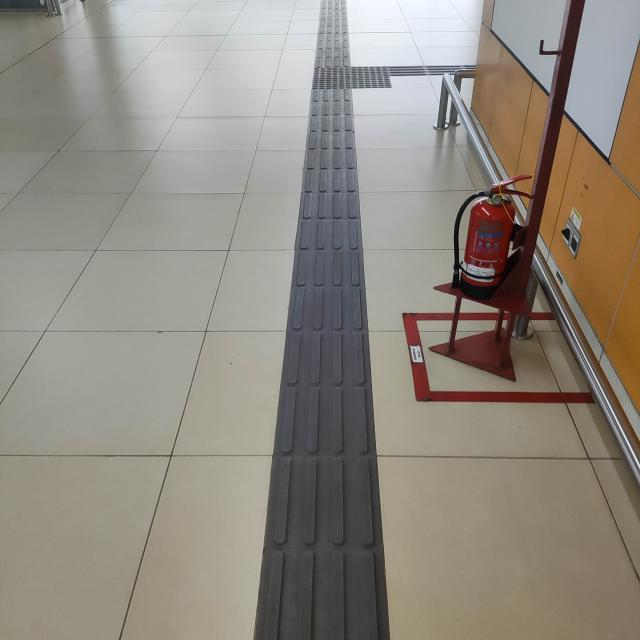lurus: (258, 103, 394, 640)
